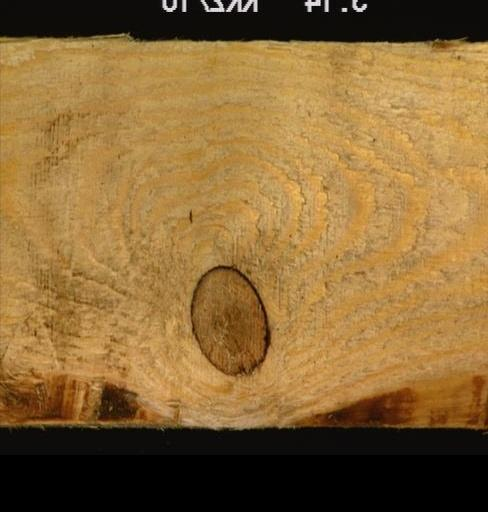dry_knot: (186, 262, 272, 377)
wave: (283, 371, 485, 429), (0, 365, 160, 427)
